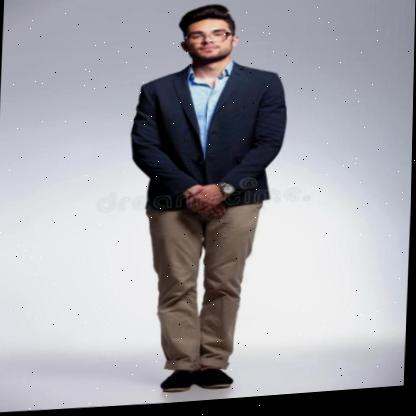person: (124, 0, 281, 402)
